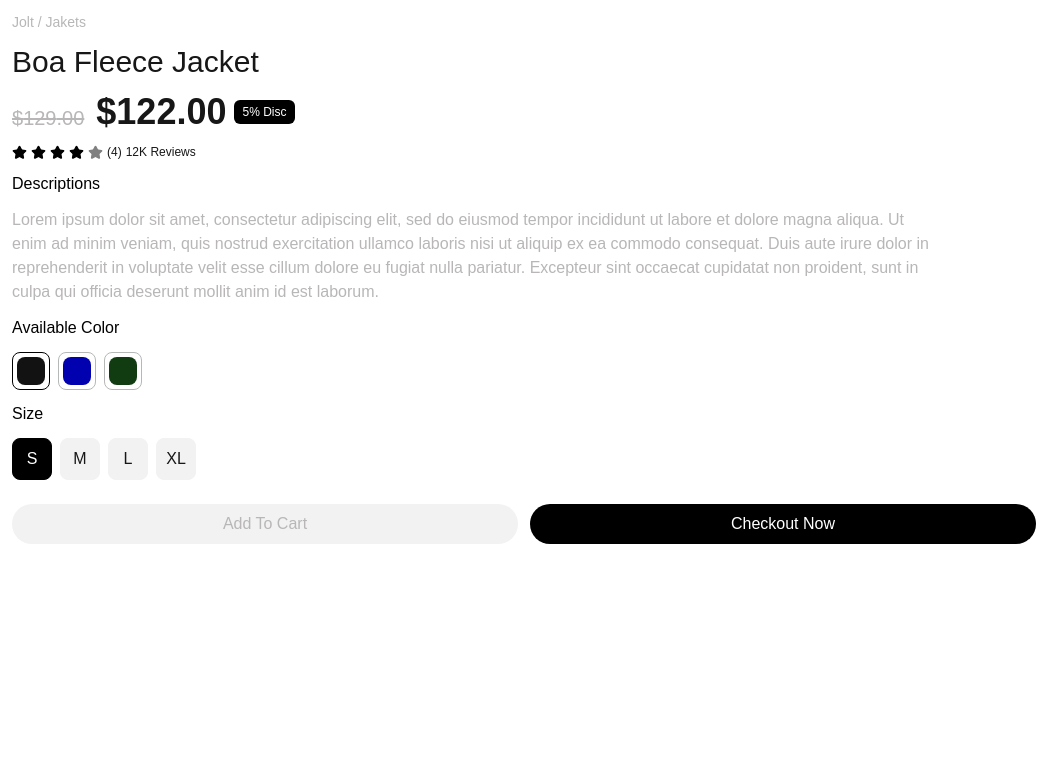
Test: Add item to cart › should disable button when adding to cart
Click the button with aria-label "add-to-cart". click: (265, 524)
box: [12,504,518,544]
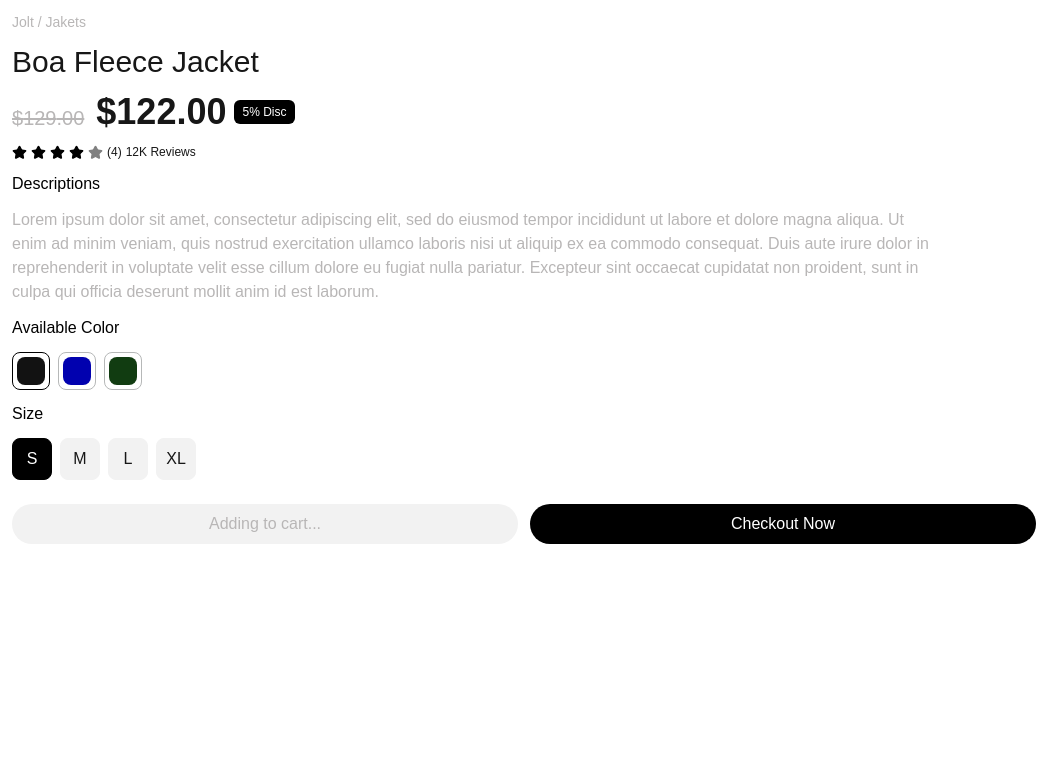
Expected: the button "Checkout Now" is disabled, [530,504,1036,544]
Expected: the button with aria-label "add-to-cart" is disabled, [12,504,518,544]
